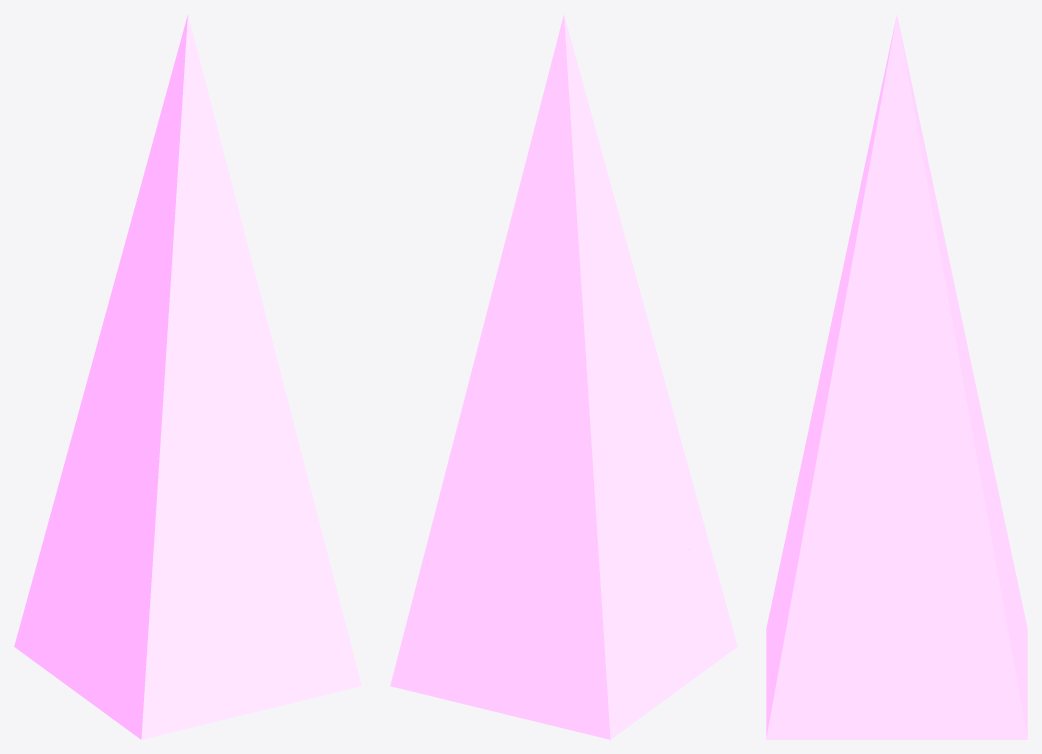
Rendered from Cone_dest_all.fbx.
3 renders of one model, left to right at view 1: azimuth 30°, elevation 25°; view 2: azimuth 150°, elevation 25°; view 3: azimuth 270°, elevation 25°, orthographic. The views are drawn at different scales.
Parts seen in each view (by area): view 1: Cone_dest_all:Cone_After:Cone_After, Cone_dest_all:Cone_before; view 2: Cone_dest_all:Cone_before, Cone_dest_all:Cone_After:Cone_After; view 3: Cone_dest_all:Cone_After:Cone_After, Cone_dest_all:Cone_before.
Boxes of the visible parts, bbox=[...] form: Cone_dest_all:Cone_After:Cone_After: bbox=[14, 93, 361, 739]; Cone_dest_all:Cone_before: bbox=[14, 15, 360, 724]; Cone_dest_all:Cone_before: bbox=[390, 15, 713, 739]; Cone_dest_all:Cone_After:Cone_After: bbox=[394, 15, 737, 739]; Cone_dest_all:Cone_After:Cone_After: bbox=[766, 15, 1027, 739]; Cone_dest_all:Cone_before: bbox=[766, 18, 1027, 739].
Bounding box in the file's own units: 70.71 × 200 × 70.71.
